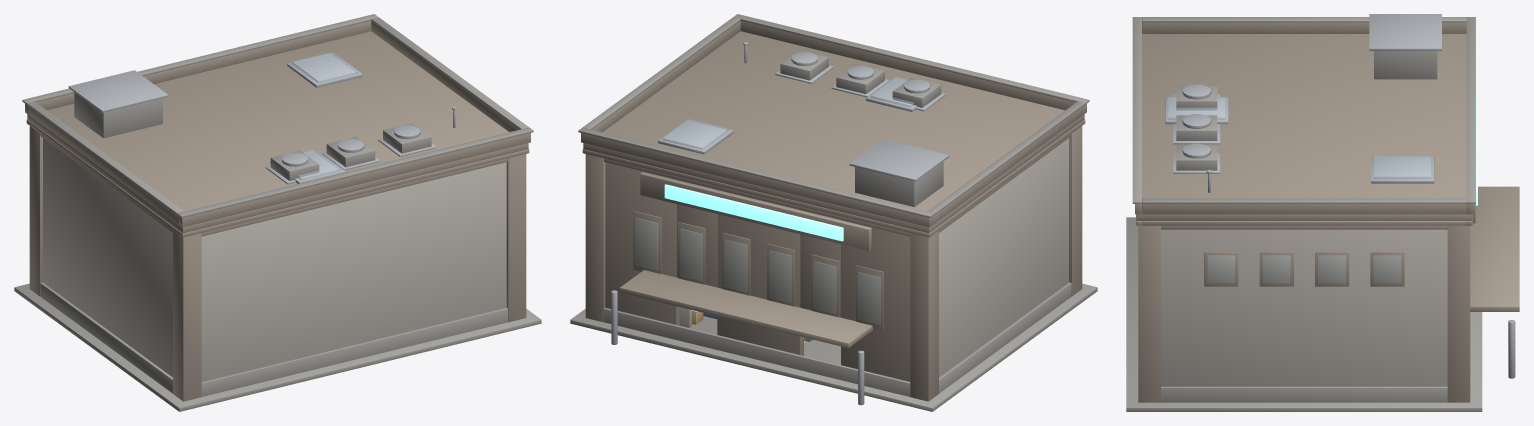
File: th19_kletterhalle.glb
3 renders of one model, left to right at view 1: azimuth 30°, elevation 25°; view 2: azimuth 150°, elevation 25°; view 3: azimuth 270°, elevation 25°, orthographic. The views are drawn at different scales.
Visible parts, largest first — view 1: Cube.711, Cube.738, Cube.712, Cube, Cube.718, Cube.714, Cube.730, Cube.716, Cube.731, Cube.770, Cube.734, Cube.769 (+17 smaller); view 2: Cube.738, Cube.712, Cube.706, Cube.761, Cube.708, Cube, Cube.707, Cube.715, Cube.719, Cube.730, Cube.731, Cube.717 (+37 smaller); view 3: Cube.738, Cube.713, Cube, Cube.761, Cube.721, Cube.717, Cube.716, Cube.733, Cube.732, Cube.770, Cube.737, Cube.734 (+24 smaller).
Boxes of the visible parts, x1=… form: Cube.711: x1=201, y1=162, x2=506, y2=381; Cube.738: x1=27, y1=31, x2=528, y2=233; Cube.712: x1=43, y1=138, x2=172, y2=377; Cube: x1=14, y1=283, x2=541, y2=411; Cube.718: x1=201, y1=307, x2=507, y2=396; Cube.714: x1=173, y1=231, x2=201, y2=401; Cube.730: x1=179, y1=133, x2=530, y2=227; Cube.716: x1=506, y1=154, x2=526, y2=322; Cube.731: x1=25, y1=21, x2=371, y2=114; Cube.770: x1=68, y1=70, x2=168, y2=112; Cube.734: x1=177, y1=127, x2=533, y2=217; Cube.769: x1=74, y1=92, x2=162, y2=138; Cube.738: x1=583, y1=31, x2=1084, y2=233; Cube.712: x1=939, y1=138, x2=1068, y2=377; Cube.706: x1=841, y1=220, x2=910, y2=381; Cube.761: x1=619, y1=270, x2=873, y2=347; Cube.708: x1=605, y1=162, x2=679, y2=325; Cube: x1=570, y1=283, x2=1097, y2=411; Cube.707: x1=717, y1=189, x2=803, y2=355; Cube.715: x1=910, y1=231, x2=938, y2=401; Cube.719: x1=604, y1=307, x2=910, y2=396; Cube.730: x1=740, y1=21, x2=1086, y2=114; Cube.731: x1=581, y1=133, x2=932, y2=227; Cube.717: x1=585, y1=154, x2=605, y2=322; Cube.738: x1=1136, y1=34, x2=1472, y2=220; Cube.713: x1=1161, y1=229, x2=1447, y2=386; Cube: x1=1126, y1=217, x2=1482, y2=411; Cube.761: x1=1470, y1=186, x2=1519, y2=311; Cube.721: x1=1161, y1=386, x2=1447, y2=402; Cube.717: x1=1447, y1=225, x2=1470, y2=402; Cube.716: x1=1138, y1=225, x2=1160, y2=402; Cube.733: x1=1142, y1=204, x2=1466, y2=214; Cube.732: x1=1142, y1=22, x2=1466, y2=33; Cube.770: x1=1369, y1=14, x2=1441, y2=50; Cube.737: x1=1142, y1=198, x2=1466, y2=203; Cube.734: x1=1132, y1=17, x2=1141, y2=203.
Bounding box in the file's own units: 28.5 × 15.78 × 24.85.
